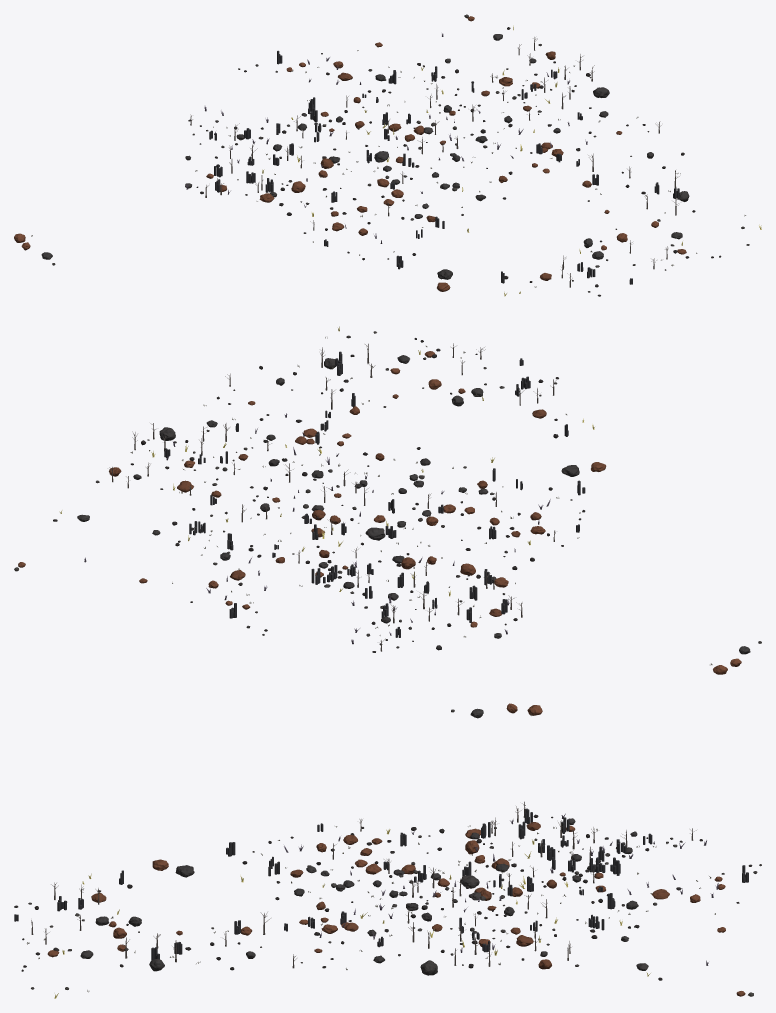
The model's file is ash_land_scatter_c14_29.glb.
3 views of the same model, one above another, from view 1: azimuth 30°, elevation 25°; view 2: azimuth 150°, elevation 25°; view 3: azimuth 270°, elevation 25° (orthographic). The views are drawn at different scales.
Parts seen in each view (by area): view 1: ash_land_scatter_c14_29; view 2: ash_land_scatter_c14_29; view 3: ash_land_scatter_c14_29.
Boxes of the visible parts, x1=… form: ash_land_scatter_c14_29: x1=14, y1=14, x2=761, y2=296; ash_land_scatter_c14_29: x1=14, y1=326, x2=761, y2=674; ash_land_scatter_c14_29: x1=14, y1=703, x2=761, y2=998.
Size of the model in its own units: 260 by 32.34 by 254.
